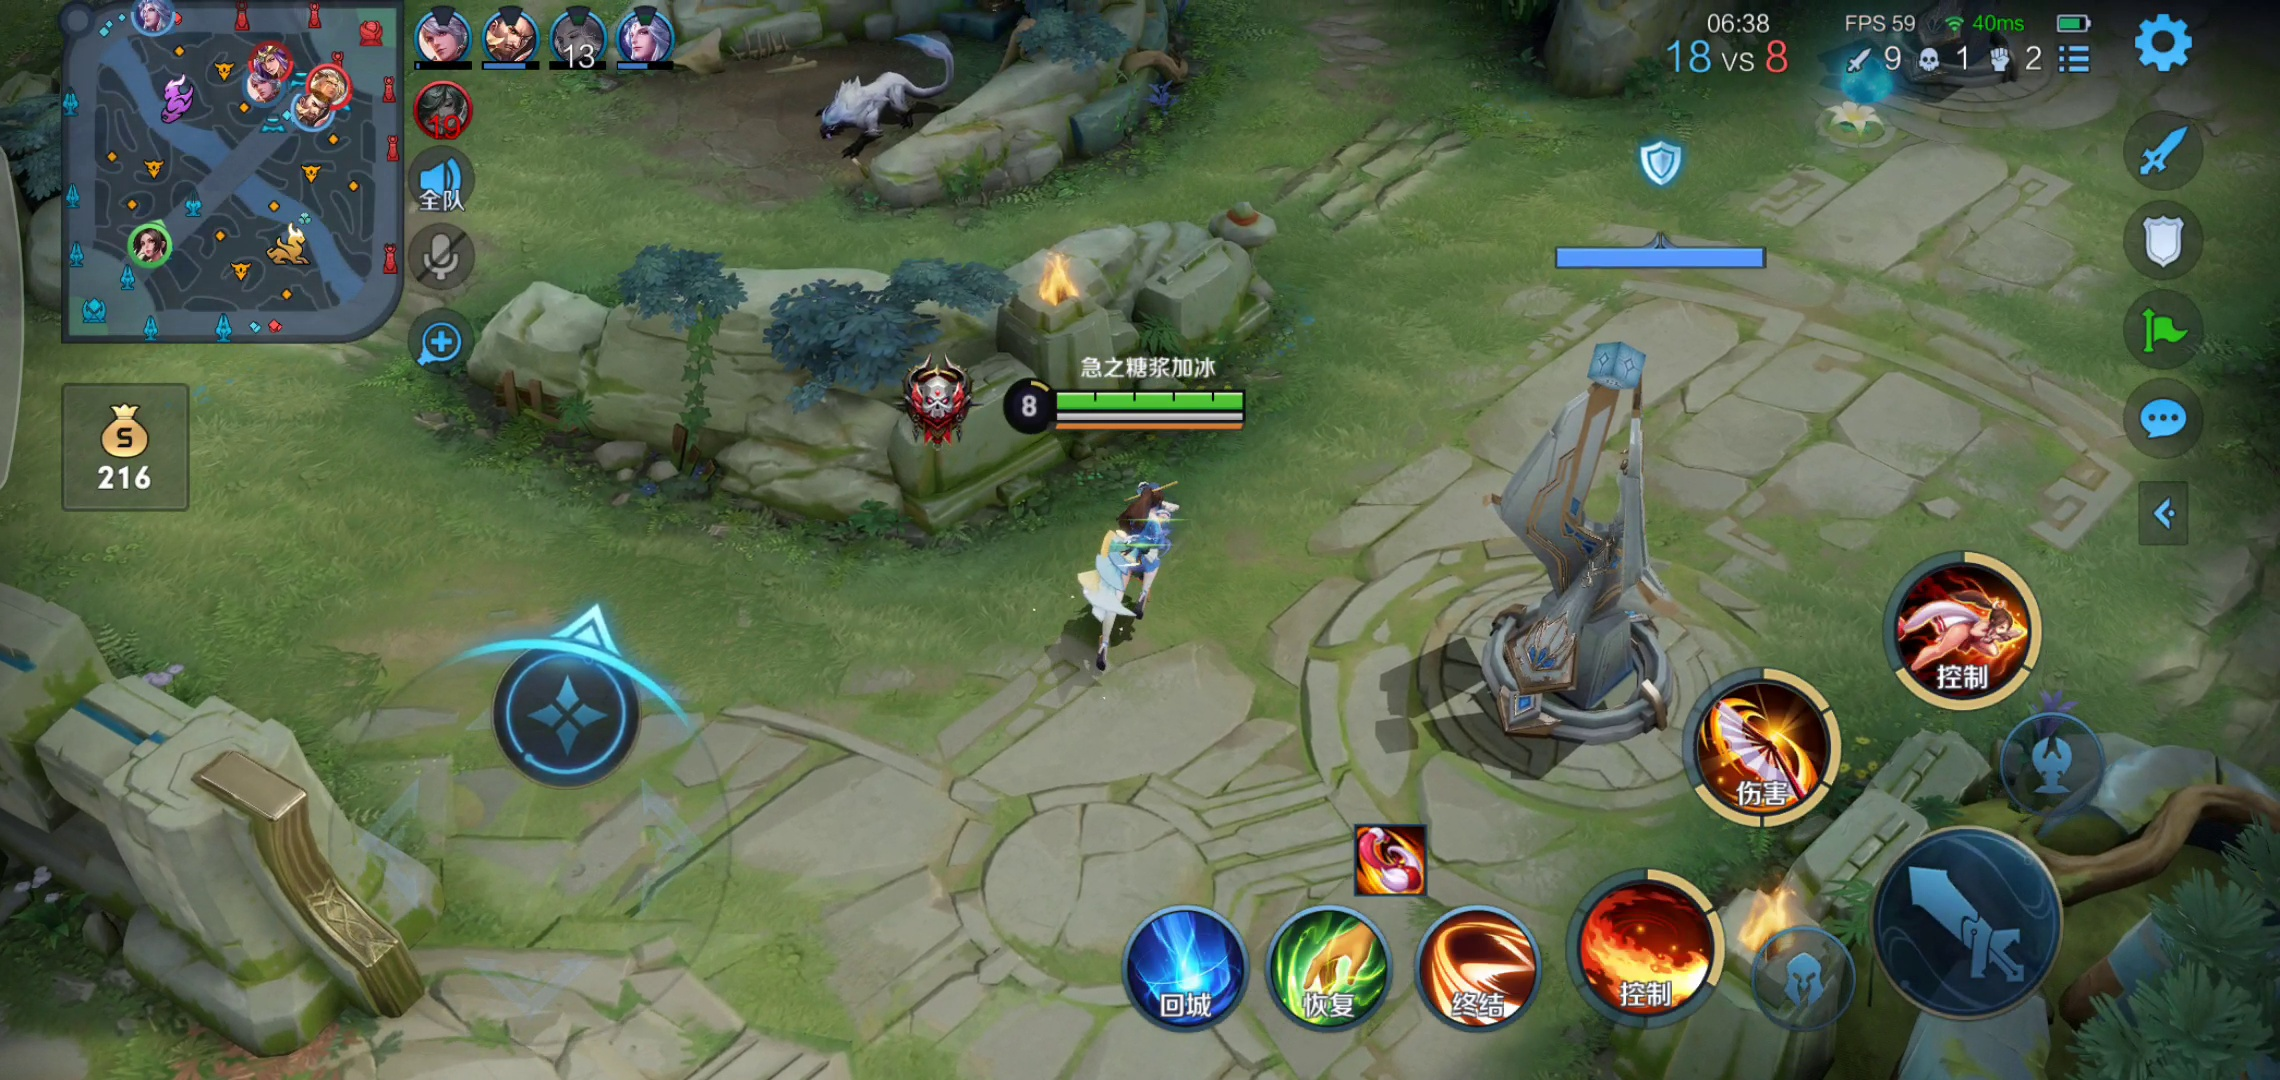hero: (1040, 459, 1208, 683)
tower: (1460, 331, 1694, 757)
wild_monster: (807, 31, 960, 161)
